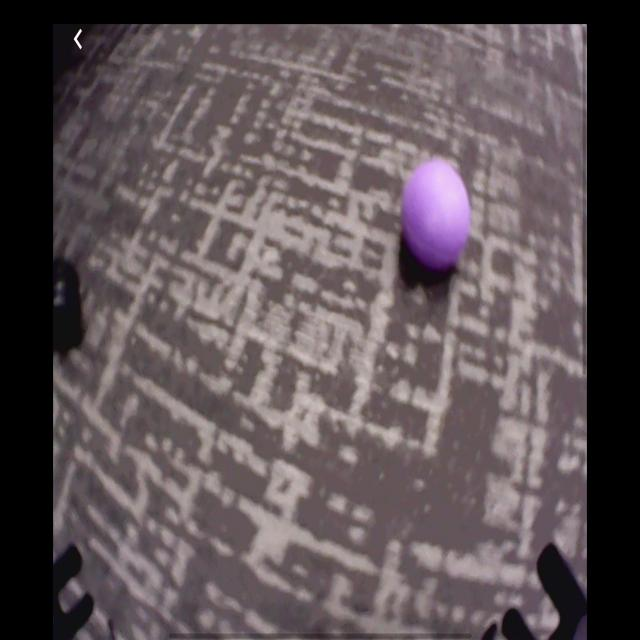ball: (399, 159, 472, 273)
